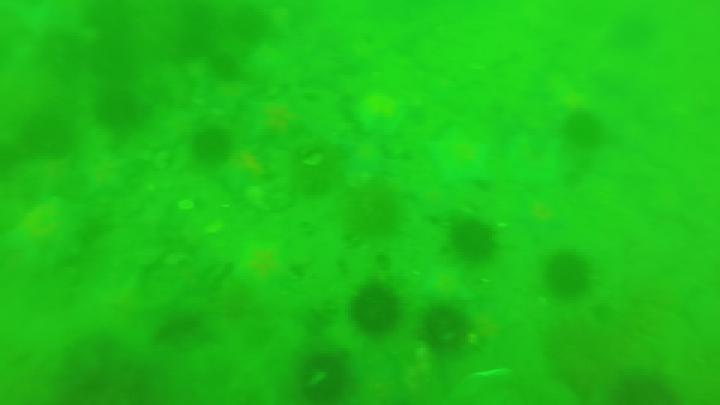echinus: (354, 278, 405, 330), (298, 351, 354, 395), (85, 33, 136, 77), (424, 310, 472, 356), (548, 255, 595, 301), (19, 110, 71, 150), (101, 89, 157, 124), (447, 218, 490, 261), (194, 124, 236, 168), (571, 110, 607, 157), (36, 35, 76, 71)
scallop: (180, 199, 198, 212)
starfish: (412, 132, 494, 194), (233, 236, 296, 311), (342, 139, 390, 202)
